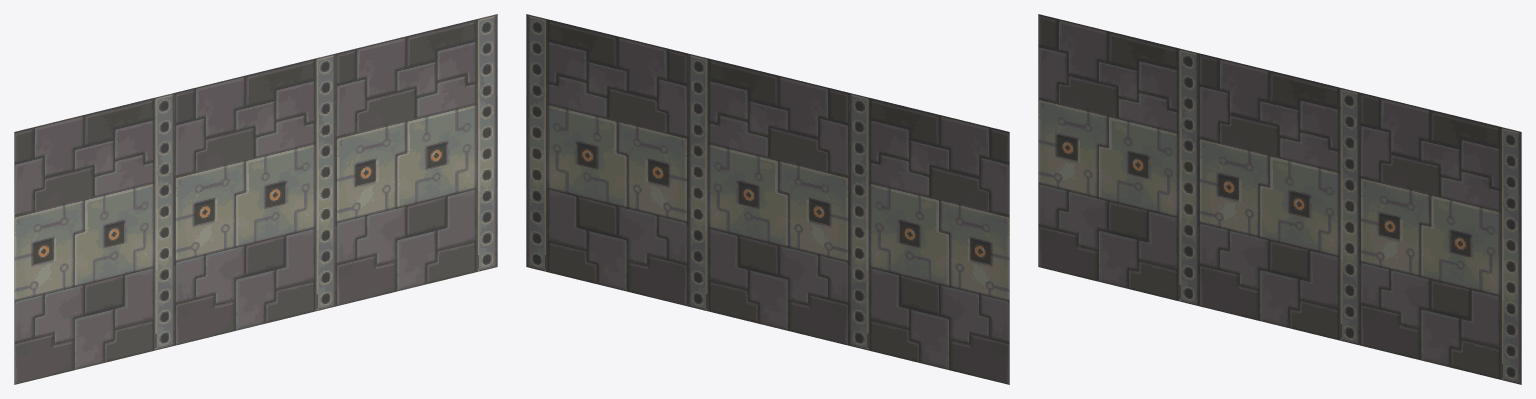
File: Wall1-3.fbx
The picture shows the model from 3 angles, left to right: view 1: azimuth 30°, elevation 25°; view 2: azimuth 150°, elevation 25°; view 3: azimuth 330°, elevation 25°; orthographic projection.
Parts seen in each view (by area): view 1: Wall1-3; view 2: Wall1-3; view 3: Wall1-3.
Boxes of the visible parts, bbox=[...] form: Wall1-3: bbox=[14, 14, 497, 384]; Wall1-3: bbox=[526, 14, 1009, 384]; Wall1-3: bbox=[1038, 14, 1521, 384].
Size of the model in its own units: 12 by 6 by 8.9e-07.
1 material, 1 textured.
